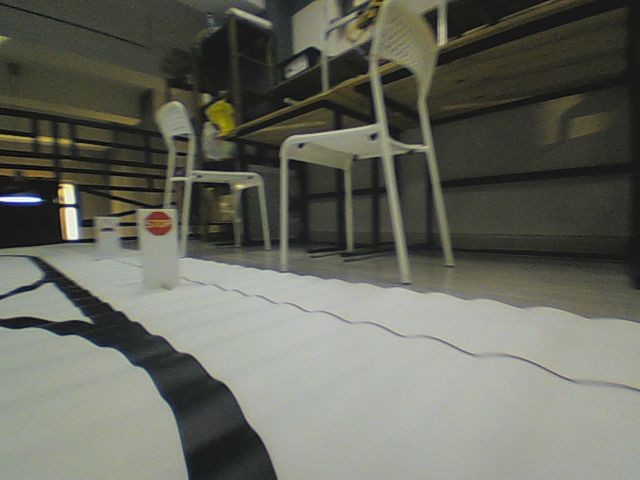Stop: (144, 210, 173, 237)
